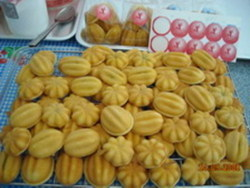kanomkai: (97, 133, 137, 167), (136, 131, 169, 171), (191, 132, 227, 167), (27, 126, 66, 157), (70, 99, 103, 131), (152, 63, 183, 96), (100, 105, 134, 135), (154, 90, 189, 118), (58, 55, 93, 81), (99, 83, 131, 107), (17, 76, 45, 103)
